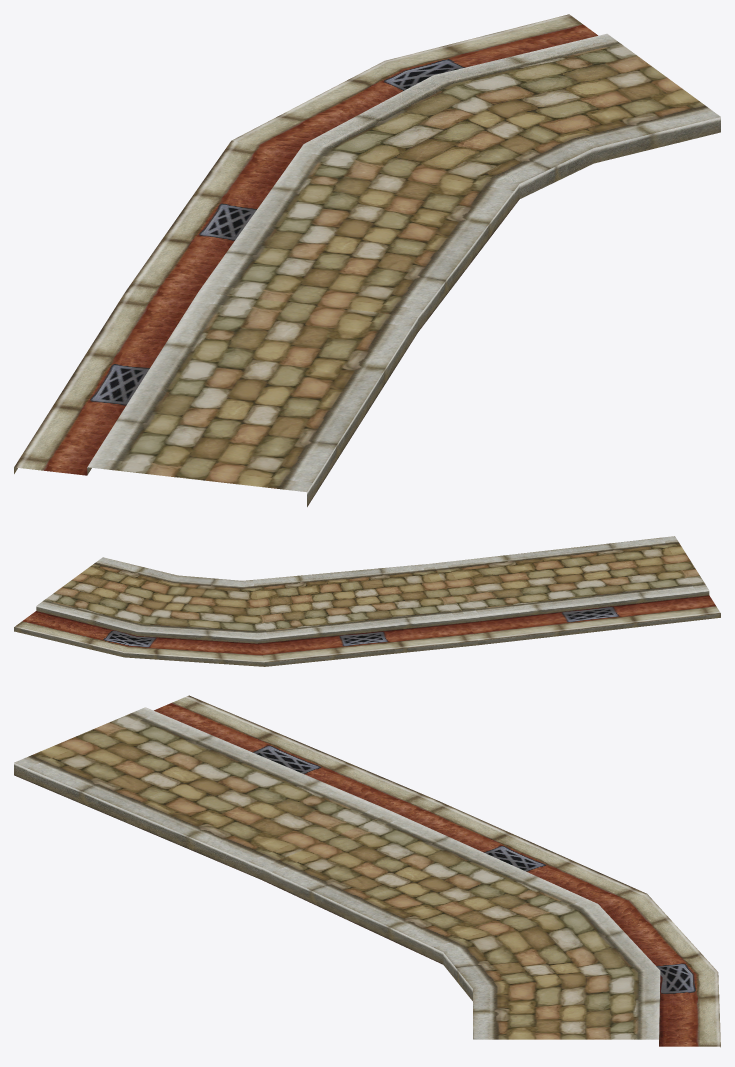
The model's file is obj_masabkrououtle01.glb.
3 renders of one model, top to bottom at view 1: azimuth 30°, elevation 25°; view 2: azimuth 150°, elevation 25°; view 3: azimuth 270°, elevation 25°, orthographic. The views are drawn at different scales.
Parts seen in each view (by area): view 1: part_0; view 2: part_0; view 3: part_0.
Boxes of the visible parts, x1,y1,x2,y2 form: part_0: (14,14,720,506); part_0: (14,536,720,666); part_0: (14,695,720,1047).
Bounding box in the file's own units: 13.41 × 0.2275 × 11.41.
1 material, 1 textured.
